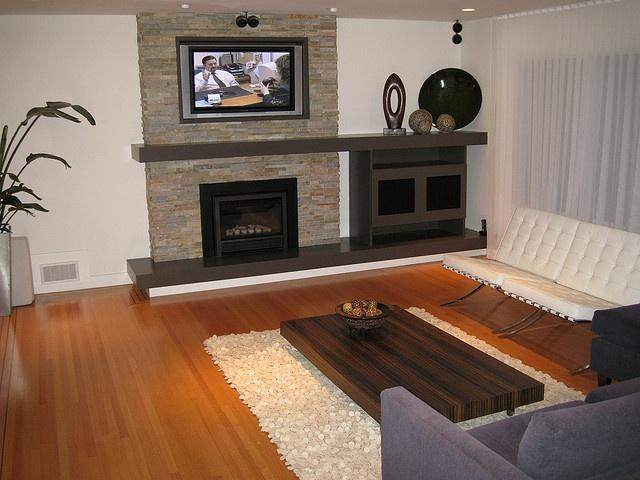Meja: (278, 302, 546, 431)
